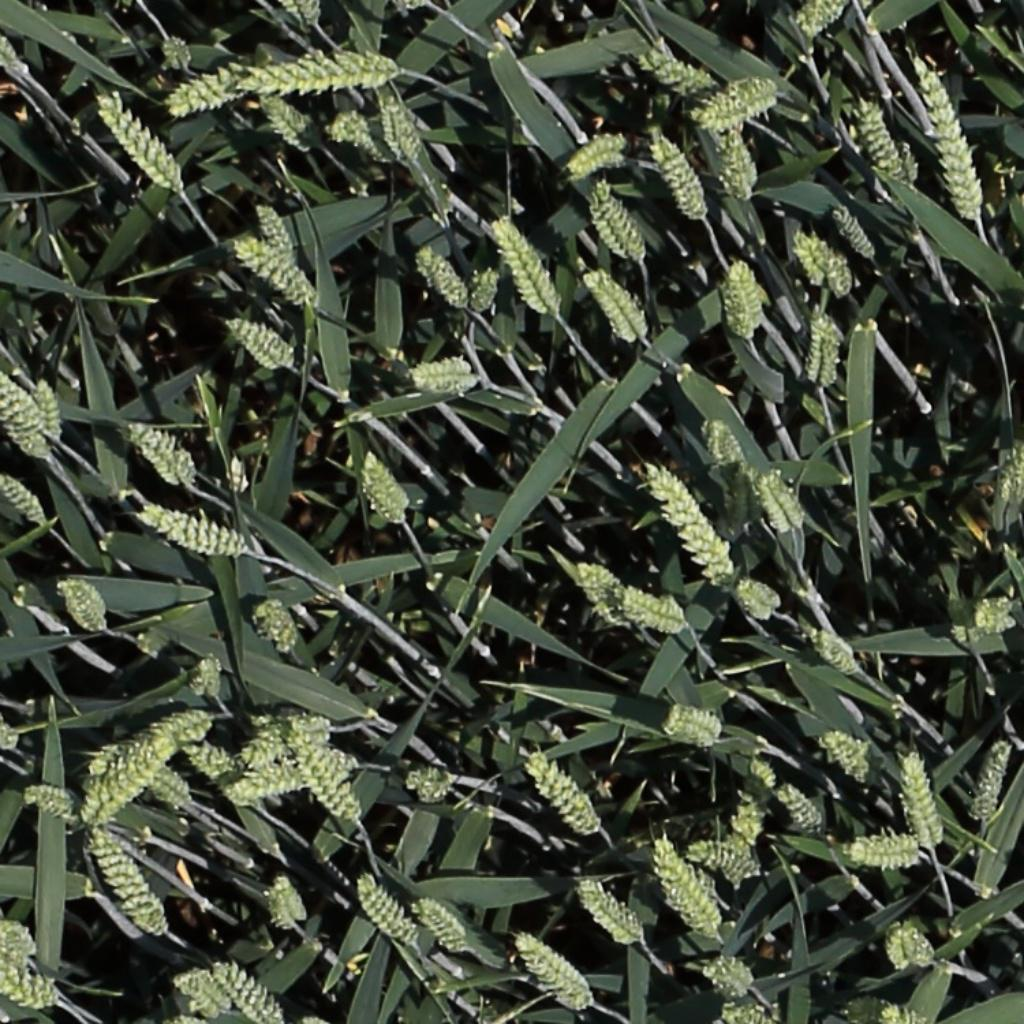0-0: (81, 703, 210, 828), (912, 49, 984, 221), (643, 460, 740, 585), (164, 50, 317, 120), (87, 823, 169, 939), (652, 835, 726, 943), (87, 740, 189, 817), (226, 749, 359, 806), (491, 212, 562, 318), (289, 726, 361, 824), (236, 59, 406, 99), (525, 750, 602, 838), (514, 932, 595, 1013), (649, 129, 711, 221), (234, 709, 323, 773), (582, 264, 651, 344), (354, 872, 424, 950), (857, 92, 913, 187), (236, 236, 314, 304), (0, 345, 51, 449), (210, 959, 291, 1024), (591, 174, 648, 266), (183, 740, 255, 811), (144, 507, 248, 555), (580, 877, 647, 947), (902, 748, 944, 856), (124, 423, 196, 486), (840, 824, 932, 872), (359, 446, 412, 527), (968, 737, 1014, 830), (415, 240, 473, 312), (0, 935, 54, 1011), (251, 193, 303, 270), (226, 315, 297, 370), (821, 727, 882, 791), (828, 197, 886, 264), (413, 892, 472, 957), (875, 915, 942, 972), (699, 80, 782, 125), (759, 464, 808, 539), (800, 621, 864, 678), (259, 84, 312, 152), (378, 90, 425, 166), (640, 50, 718, 95), (398, 758, 463, 812), (658, 703, 731, 751), (809, 228, 857, 301), (407, 354, 486, 398), (727, 255, 764, 344), (57, 576, 111, 636), (775, 780, 828, 841), (574, 561, 626, 623), (788, 0, 862, 43), (791, 225, 838, 292), (0, 468, 50, 529), (722, 122, 760, 202), (252, 596, 301, 658), (619, 591, 690, 630), (338, 117, 398, 163), (173, 970, 233, 1015), (689, 845, 763, 880), (704, 412, 745, 473), (268, 871, 308, 933), (31, 371, 64, 446), (809, 303, 836, 393), (727, 460, 756, 539), (465, 260, 503, 320), (567, 139, 629, 173), (735, 785, 764, 857), (288, 706, 336, 748), (703, 959, 757, 996), (745, 748, 783, 798), (998, 438, 1024, 509), (0, 918, 39, 965), (24, 787, 77, 820), (158, 30, 195, 76), (735, 580, 782, 615), (0, 6, 21, 72), (223, 449, 249, 502), (976, 599, 1010, 634), (292, 0, 326, 32), (722, 1003, 771, 1024), (882, 1003, 928, 1024), (160, 1009, 213, 1024), (297, 1010, 345, 1024)
